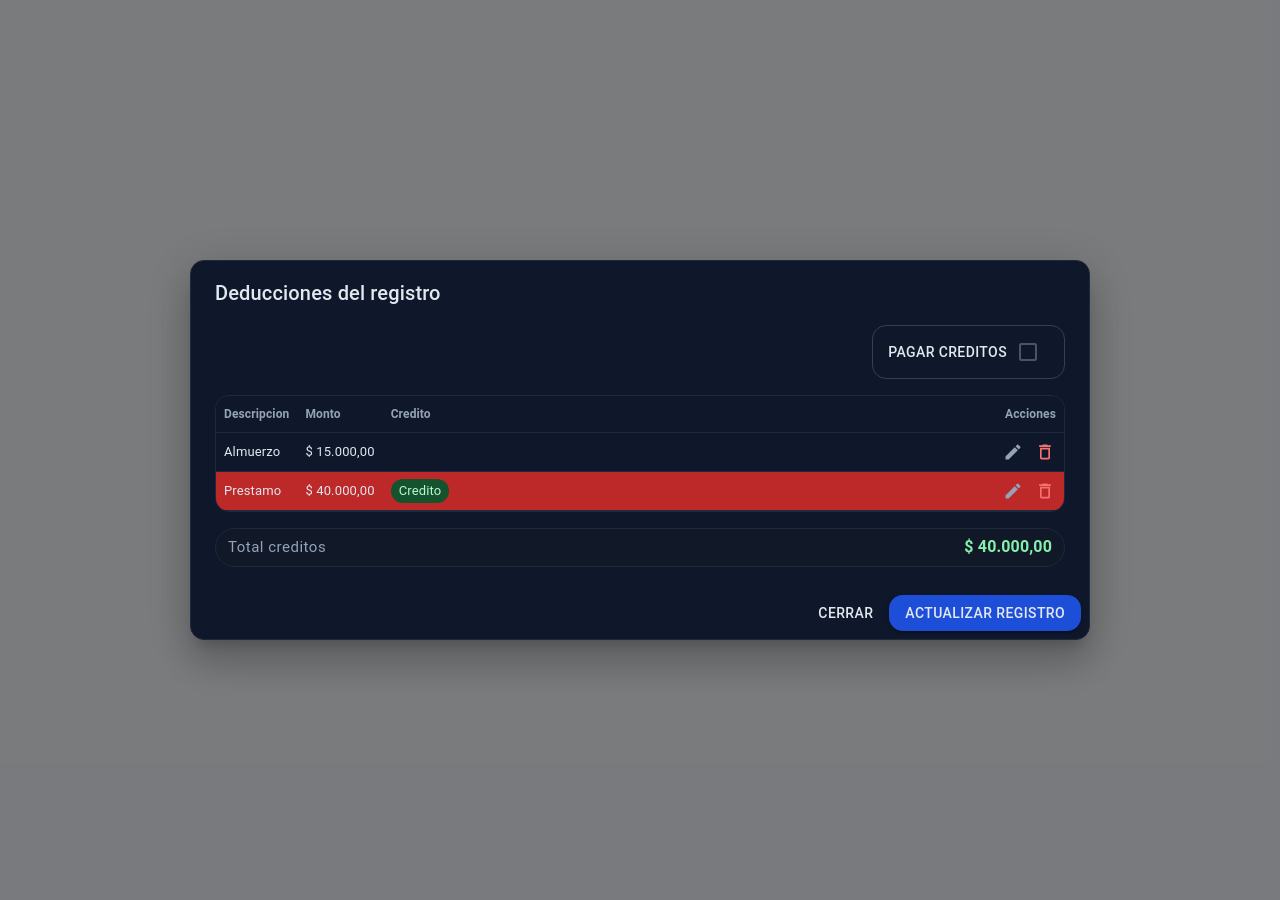
it: ListDeductionsModal › al editar habilita los campos de esa fila
Click the button named "Editar deduccion" in the row of "Almuerzo" at (1013, 452), box x1=998 y1=437 x2=1028 y2=467
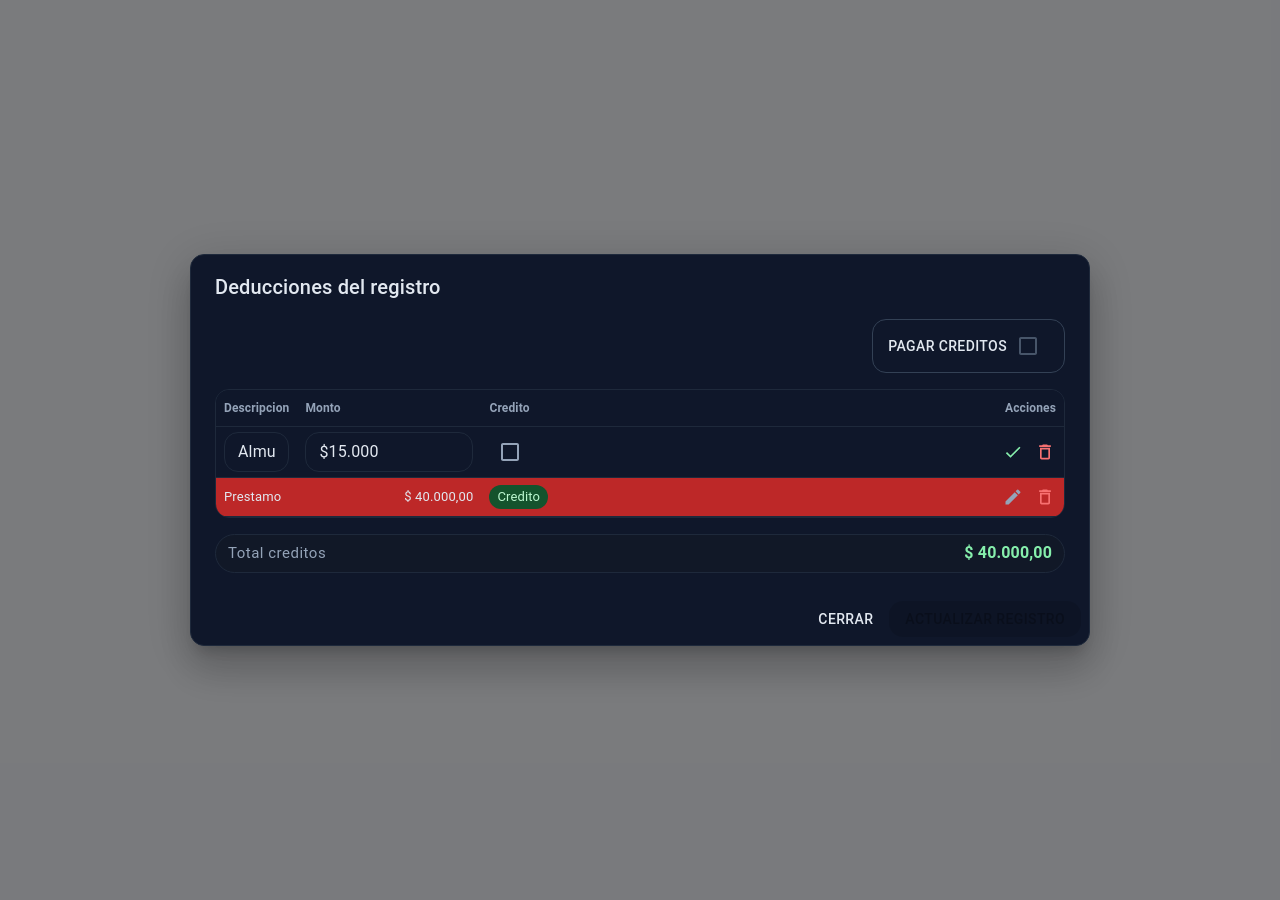
Expected: the field named "Descripcion" holds "Almuerzo", x1=224 y1=432 x2=289 y2=472
Expected: the field named "Monto" holds "$15.000", x1=305 y1=432 x2=473 y2=472
Expected: the button named "Guardar deduccion" is shown, x1=998 y1=437 x2=1028 y2=467
